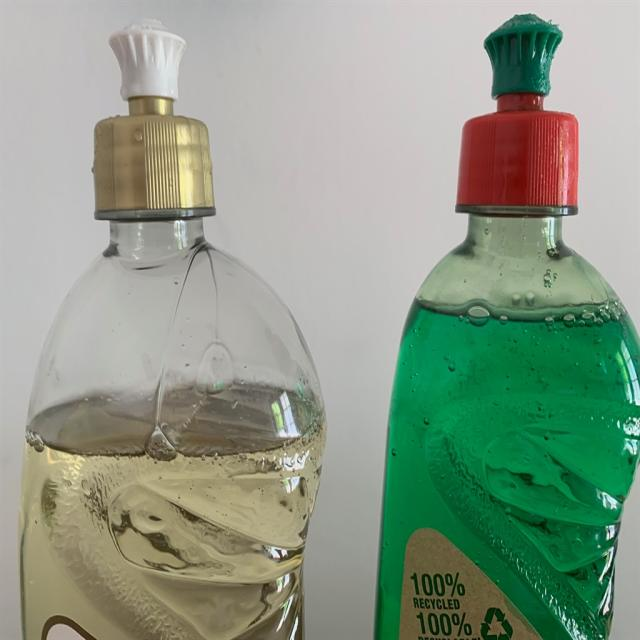plastic: (24, 21, 330, 640), (376, 15, 640, 640)
